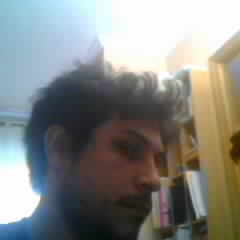without_mask: (71, 111, 165, 240)
